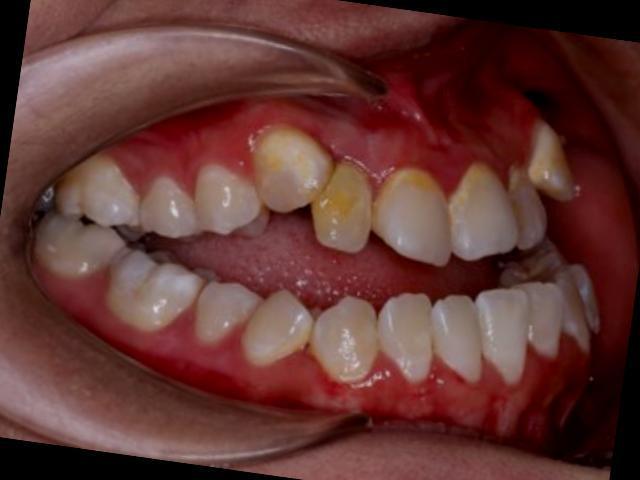canine class III 1/4: (220, 117, 402, 392)
molar class III full class: (6, 137, 218, 342)
